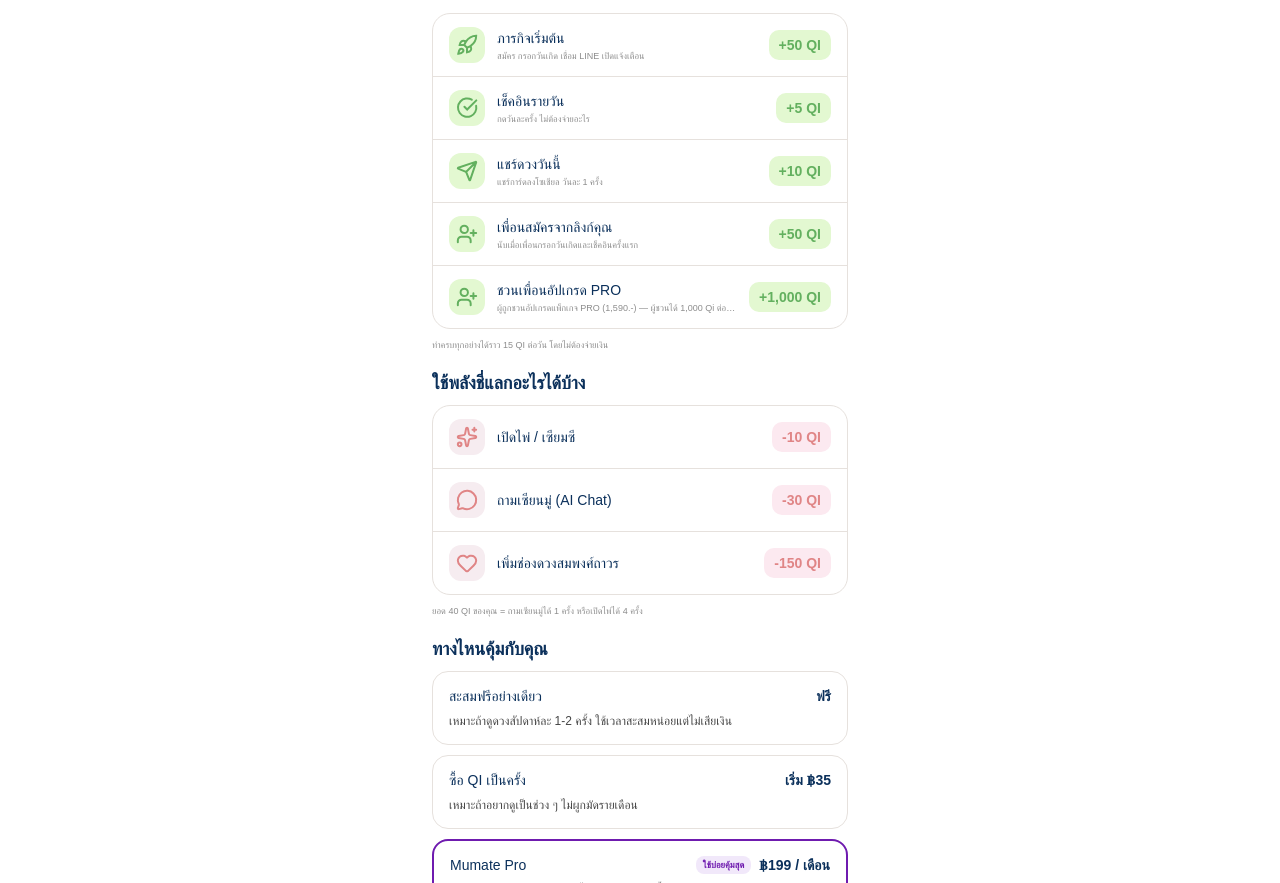
Test case: ชีตใช้ชี่ / ชี่ไม่พอ (ก้อน 1.5) › engine ตอบ 409 (แต้มไม่พอช่วงยิงจริง) → เปลี่ยนเป็นชีตชี่ไม่พอ + ดึงยอดจริงมาโชว์ยอดขา
(page scrolled)
What coordinates should you click on to do the following:
click the button with test id "qi-redeem-card_use"
I would click on:
 (467, 437)
Its box is [433,406,847,468].
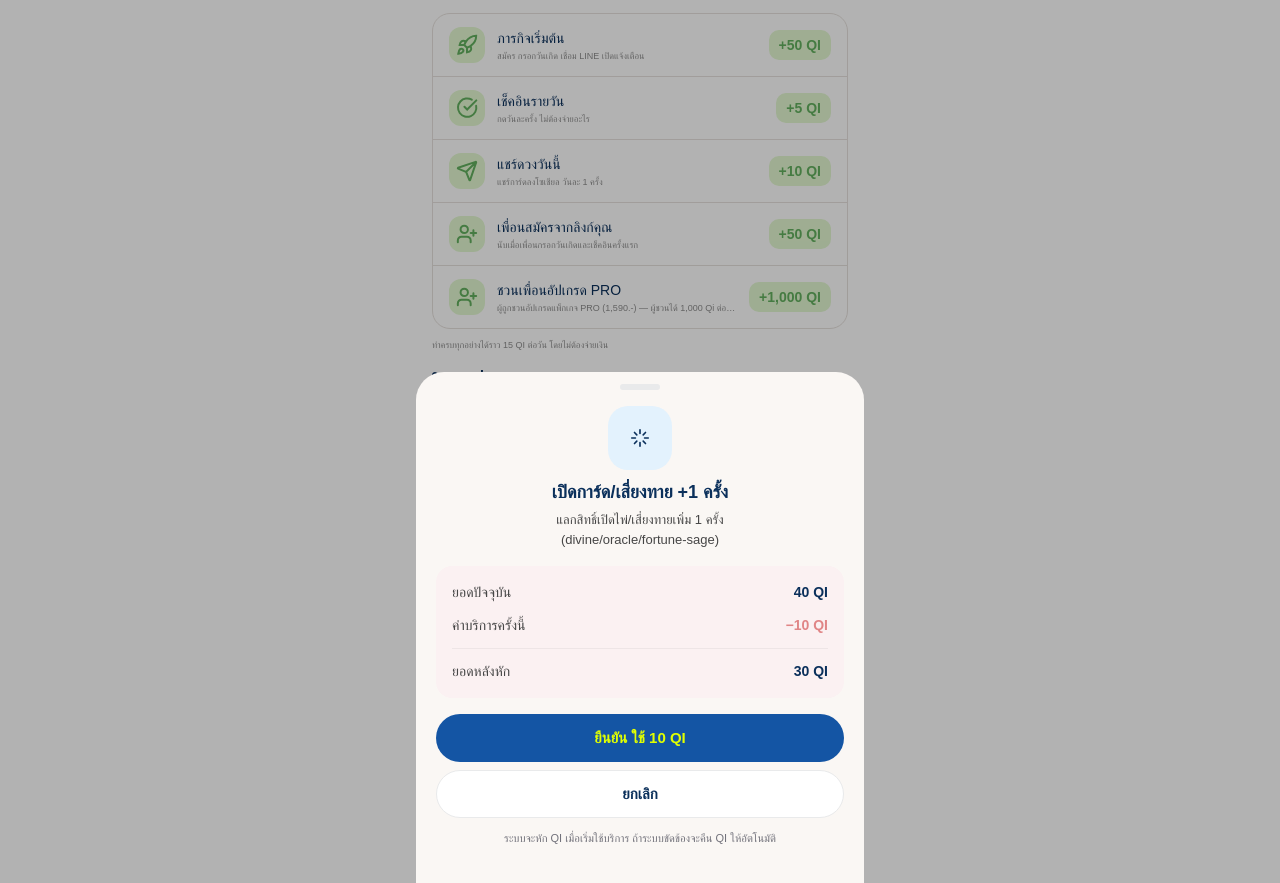
Expected: the heading "เปิดการ์ด/เสี่ยงทาย +1 ครั้ง" is shown, [552,478,728,506]
What coordinates should you click on to do the following:
click the button with test id "qi-spend-confirm"
I would click on:
 (640, 738)
Its box is [436,714,844,762].
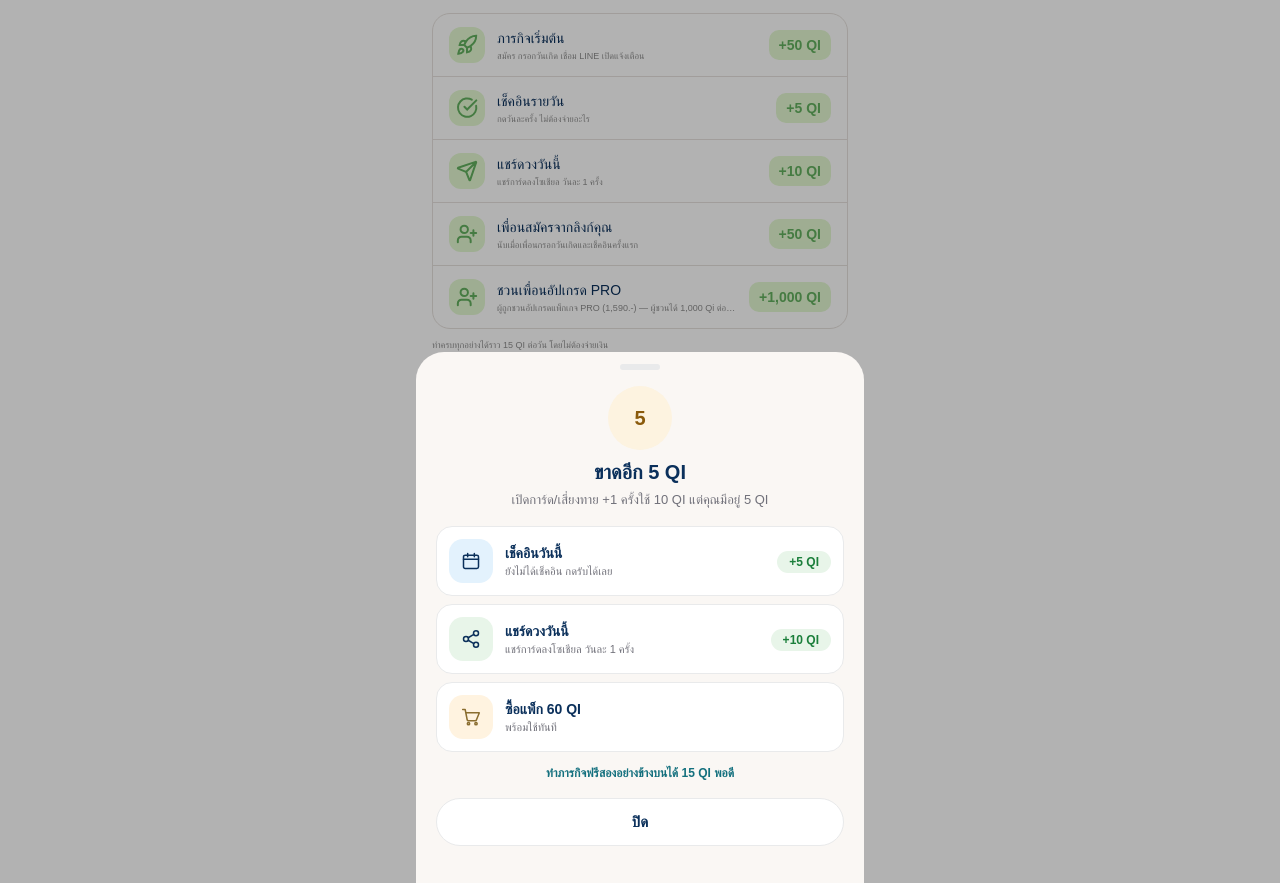
Expected: the heading with test id "qi-insufficient-title" reads "ขาดอีก 5 QI", [594,458,686,486]
